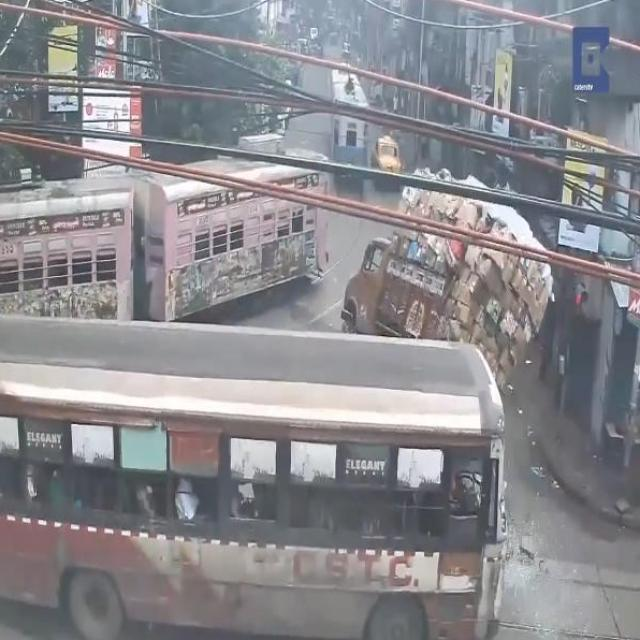accident: (343, 175, 553, 433)
